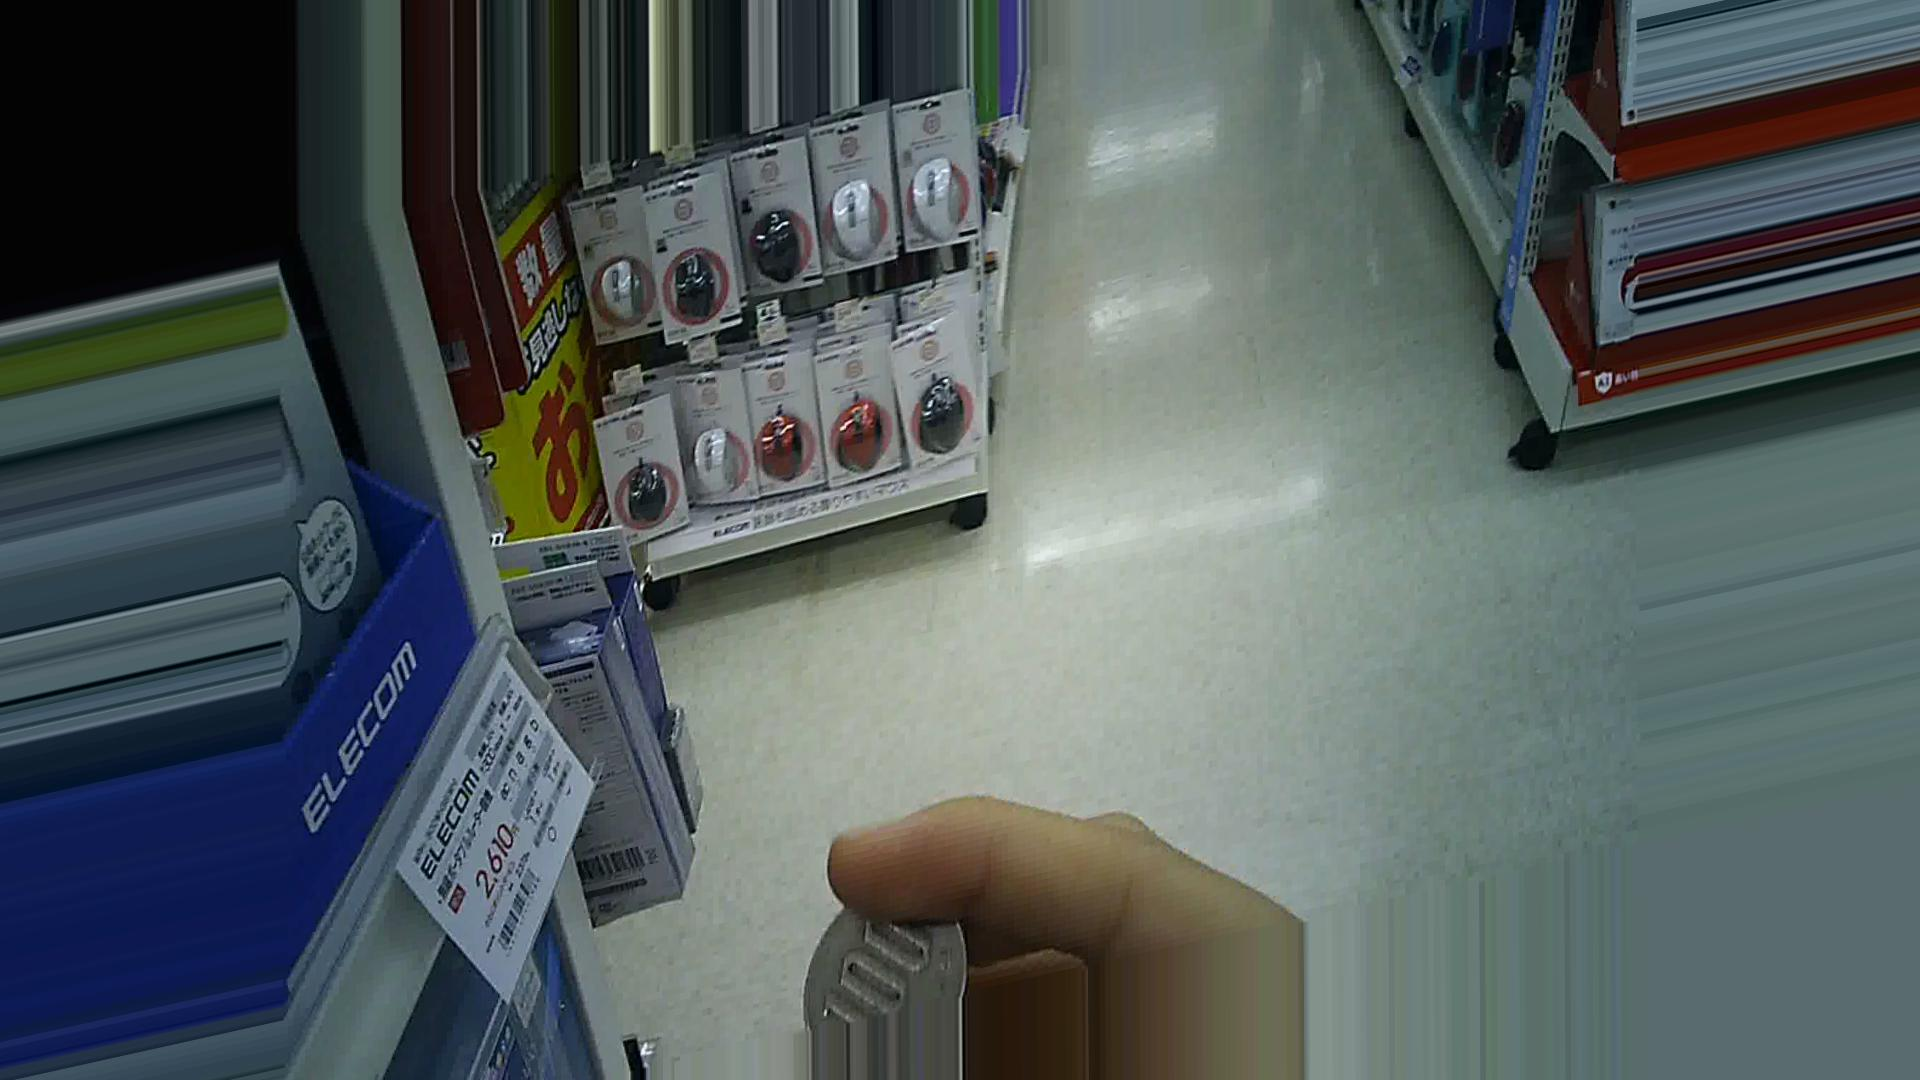100 Yen: (790, 893, 992, 1031)
